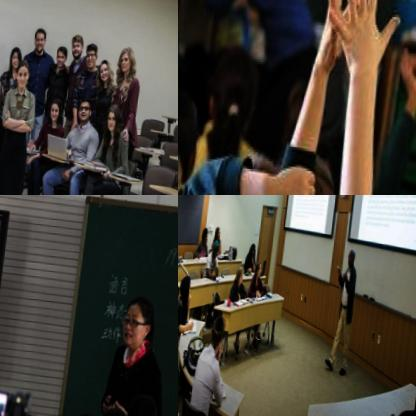head: (199, 38, 270, 151), (178, 78, 205, 178), (120, 290, 161, 349), (126, 384, 162, 416), (210, 308, 228, 351), (107, 100, 126, 132), (15, 58, 33, 87), (101, 400, 133, 416), (119, 43, 137, 71), (99, 56, 117, 81), (77, 95, 95, 120), (85, 40, 101, 67), (34, 24, 49, 51), (11, 41, 26, 67), (56, 40, 71, 66), (181, 268, 194, 298), (71, 32, 87, 56), (49, 96, 65, 117), (236, 262, 247, 285), (348, 244, 359, 265), (202, 223, 212, 245), (211, 236, 221, 255), (256, 257, 266, 275), (215, 224, 224, 242), (249, 237, 257, 256)
